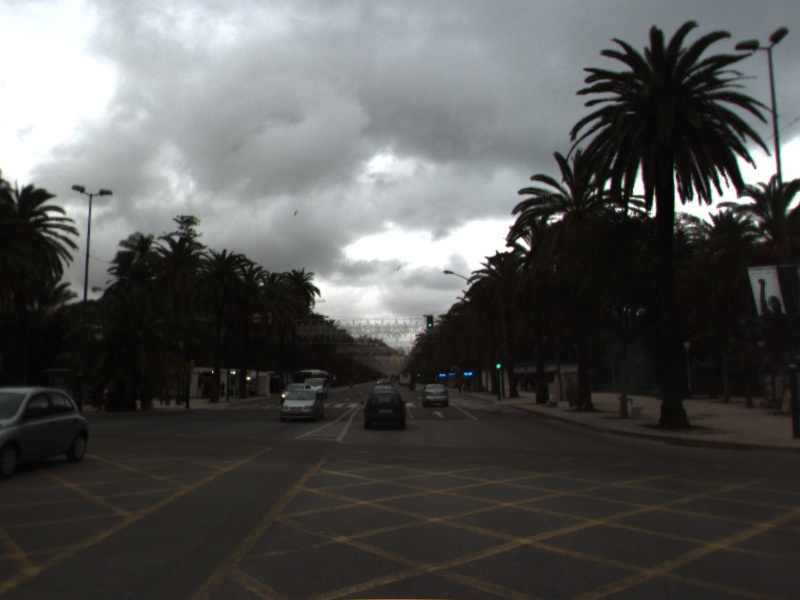STRAIGHT: (430, 408, 447, 420)
